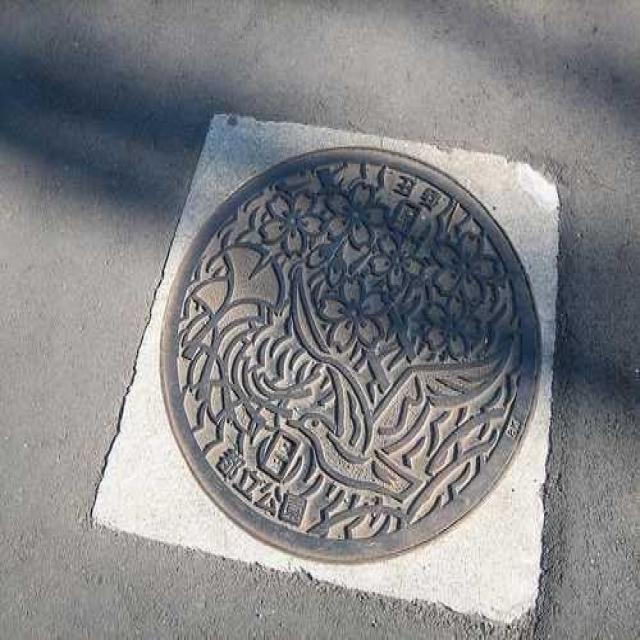manhole: (165, 153, 539, 559)
